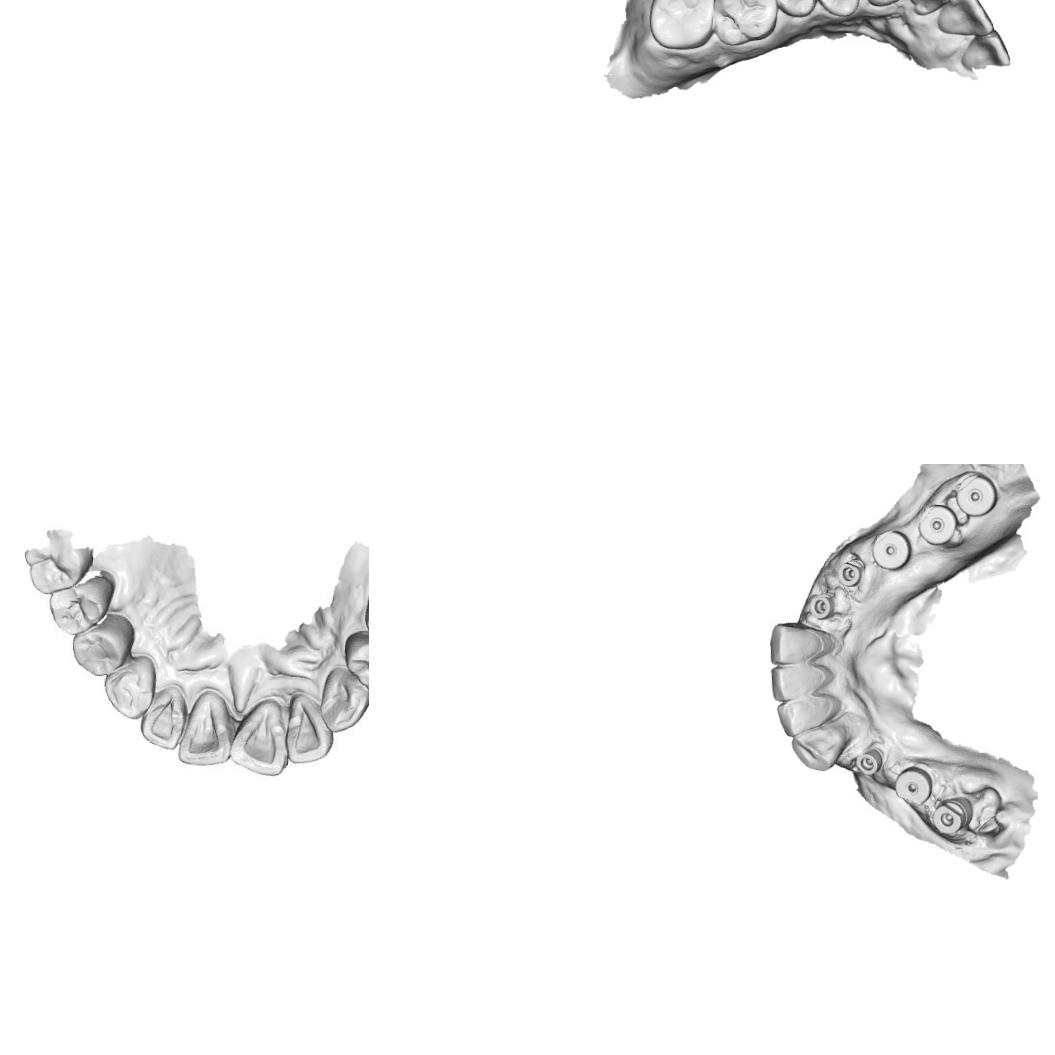canine: (101, 654, 158, 721), (318, 666, 369, 735)
implant: (953, 470, 998, 518), (915, 502, 959, 548), (870, 527, 913, 572), (929, 794, 974, 837), (893, 764, 934, 807), (854, 746, 885, 778), (836, 556, 866, 589), (804, 592, 838, 620)
incisor: (226, 695, 294, 778), (175, 686, 233, 770), (284, 691, 336, 766), (766, 620, 844, 668), (138, 685, 188, 751), (790, 722, 850, 774), (775, 694, 842, 737), (768, 663, 836, 704), (935, 0, 998, 38), (960, 25, 1012, 70), (907, 0, 953, 19)
molar: (647, 0, 718, 51), (709, 0, 780, 48)
premolar: (46, 572, 122, 639), (69, 611, 136, 678), (341, 628, 369, 694), (767, 0, 819, 20), (812, 0, 866, 19)
